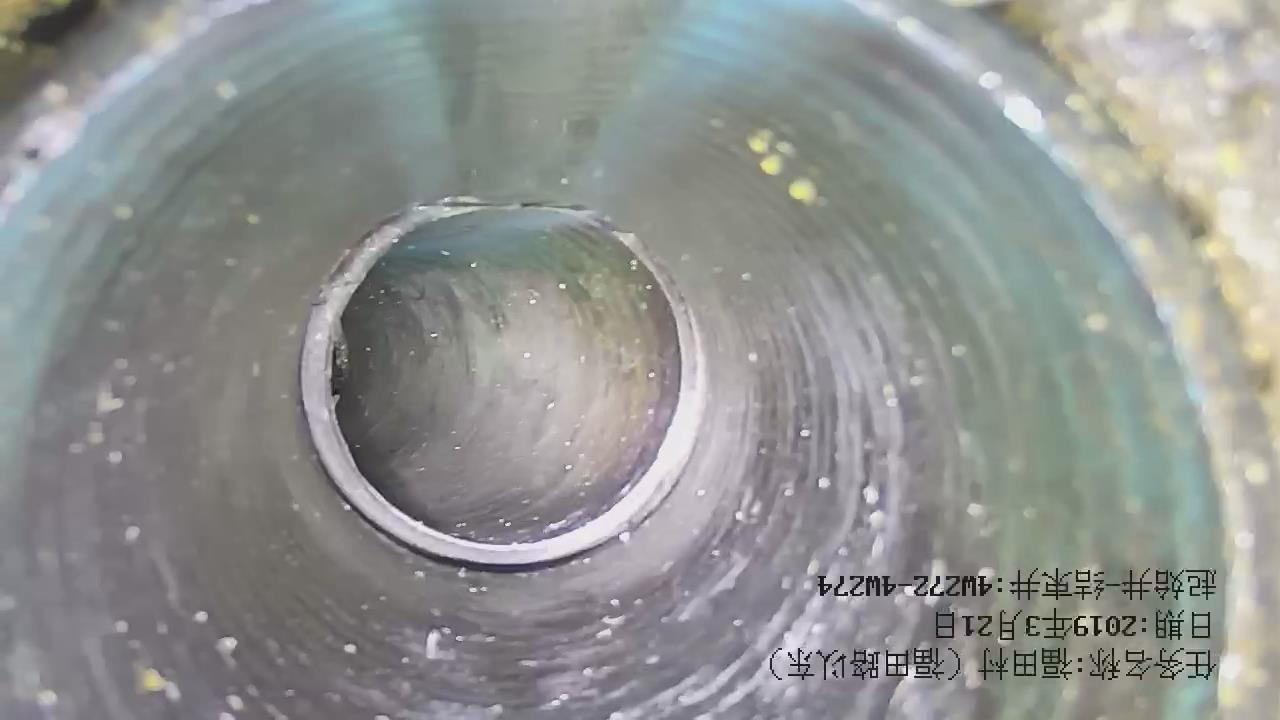CKTJ: (293, 194, 715, 578)
